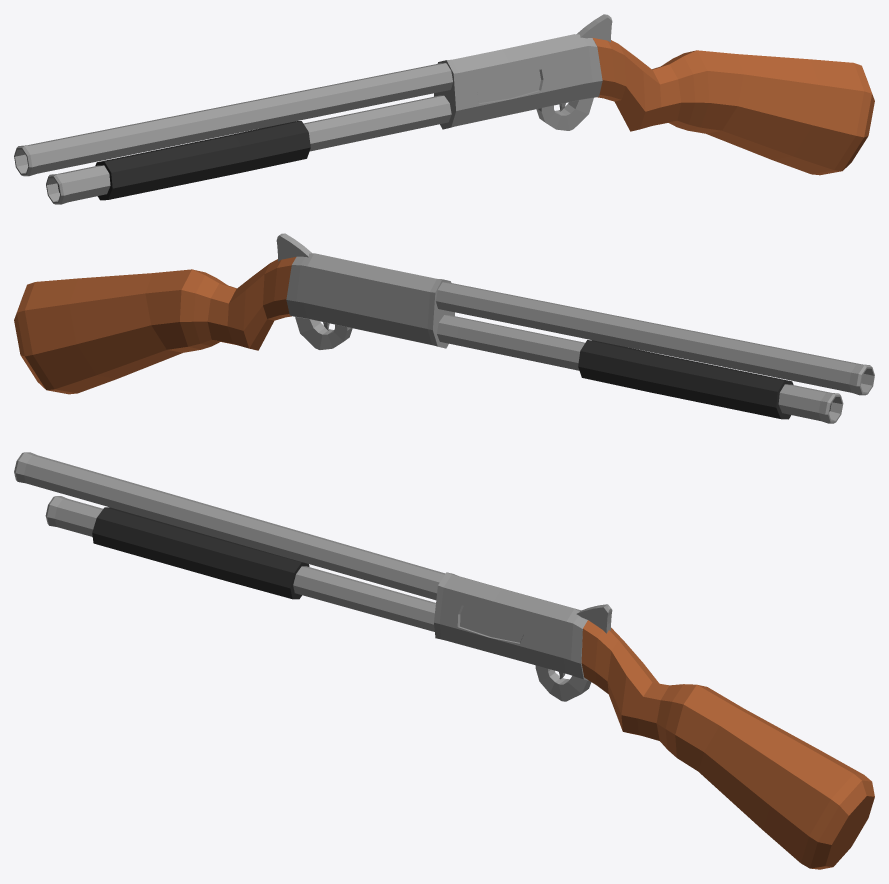
The model's file is Shotgun Low Poly.glb.
3 views of the same model, one above another, from view 1: azimuth 30°, elevation 25°; view 2: azimuth 150°, elevation 25°; view 3: azimuth 330°, elevation 25° (orthographic).
Visible parts, largest first — view 1: Cylinder, Cylinder.001; view 2: Cylinder, Cylinder.001; view 3: Cylinder, Cylinder.001.
Part boxes in pixels (x1,y1,x2,y2): Cylinder: (14, 14, 874, 204); Cylinder.001: (95, 121, 310, 200); Cylinder: (14, 233, 874, 423); Cylinder.001: (578, 340, 793, 419); Cylinder: (14, 452, 874, 869); Cylinder.001: (92, 507, 309, 599).
Size of the model in its own units: 9.16 by 2.31 by 0.8836.
